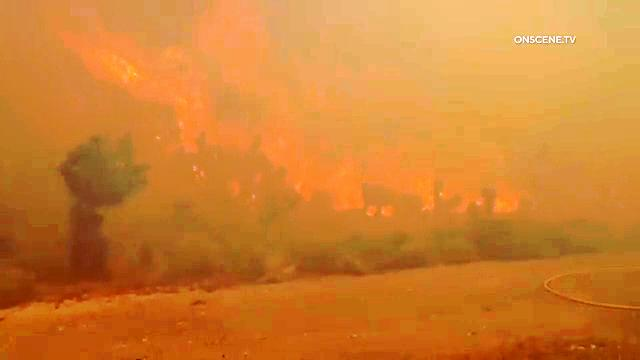fire: (187, 147, 526, 240)
smoke: (283, 9, 500, 120)
